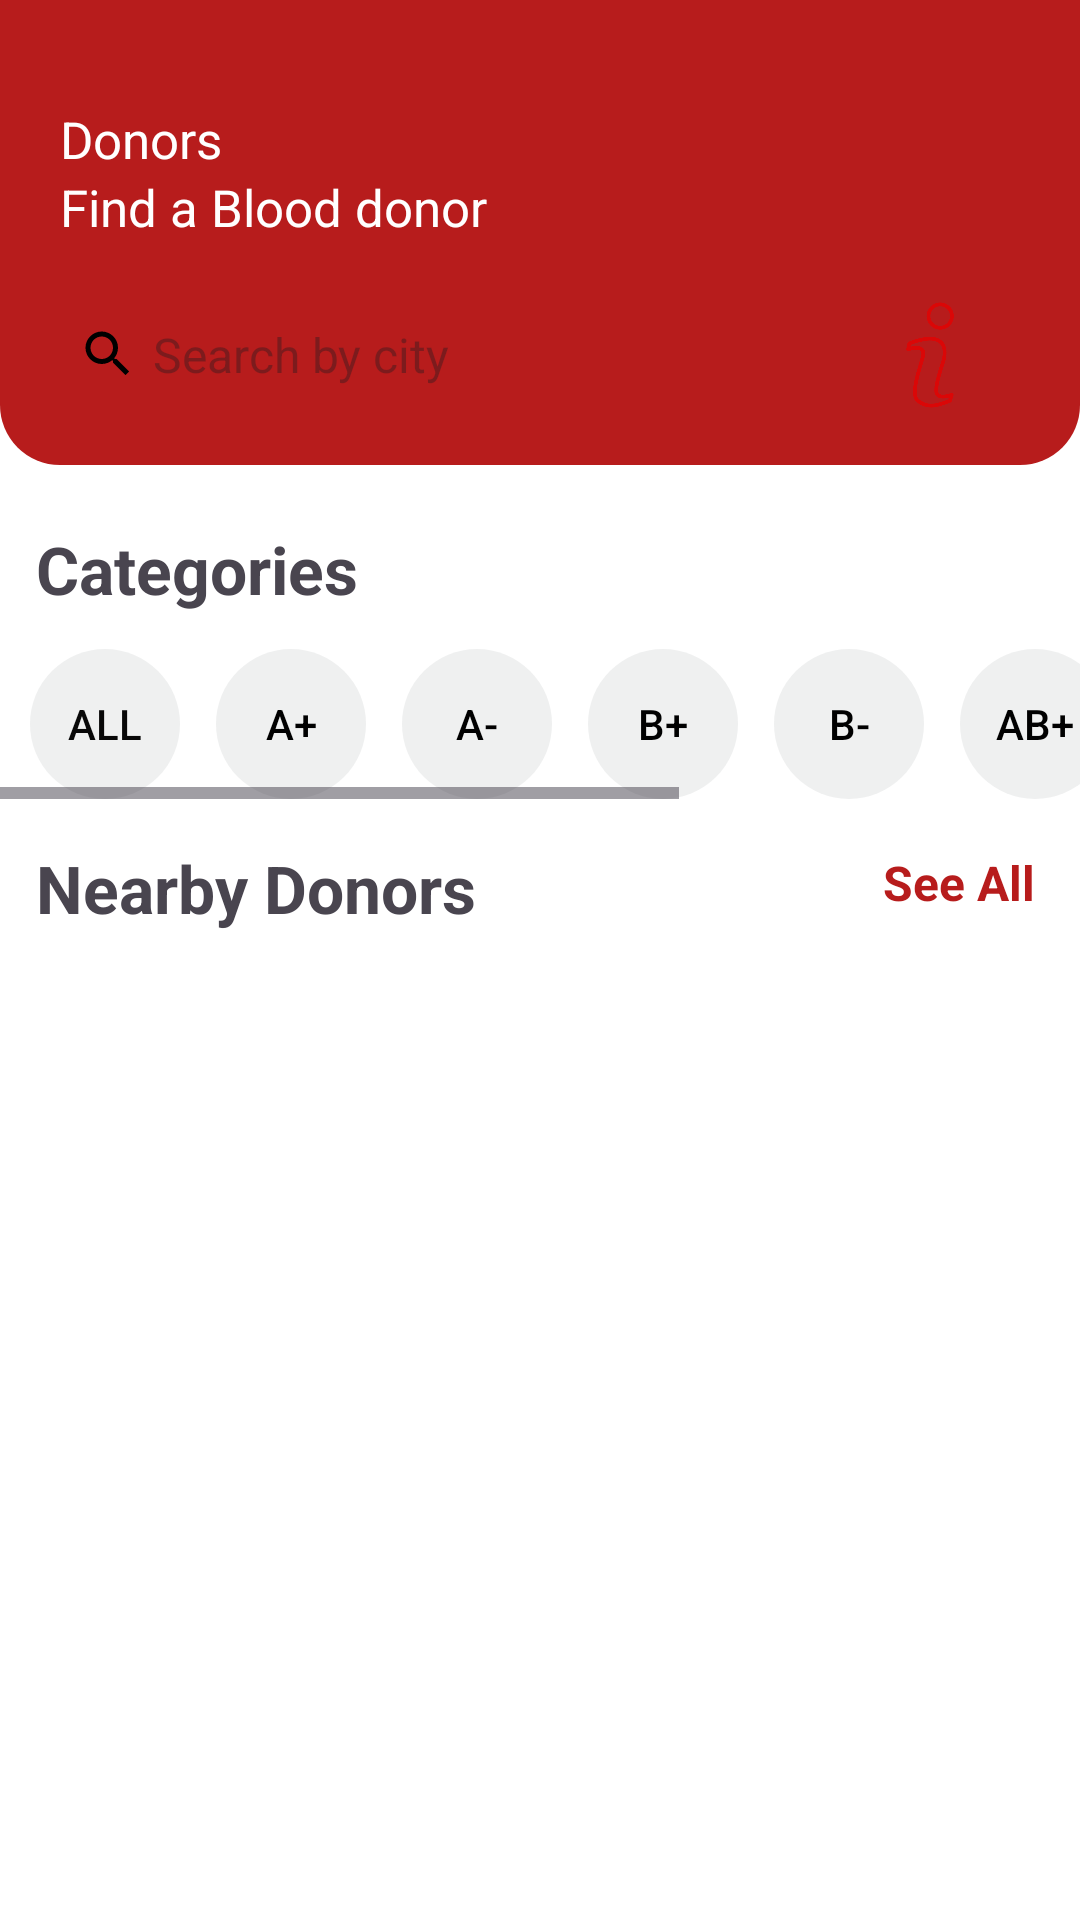

Named icons in this screenshot (1080×1920) and their bounding boxes, (x1, y1, x2, y2):
info: (906, 303, 954, 407)
